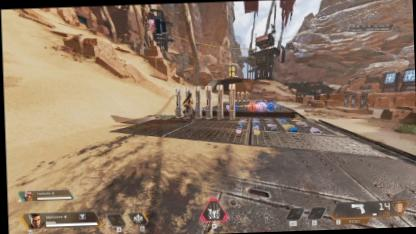Target: (180, 92, 194, 121), (364, 102, 368, 116)
